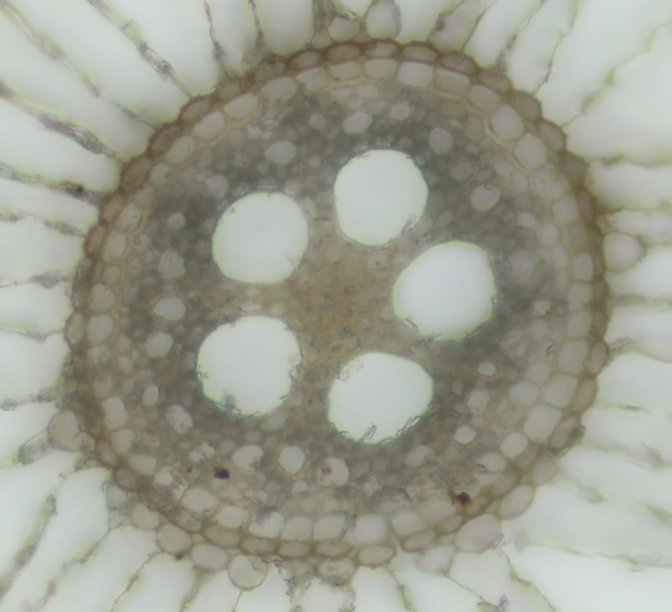lm: (392, 241, 499, 343), (197, 315, 301, 417), (327, 352, 434, 445), (334, 148, 429, 246), (212, 190, 308, 284)
